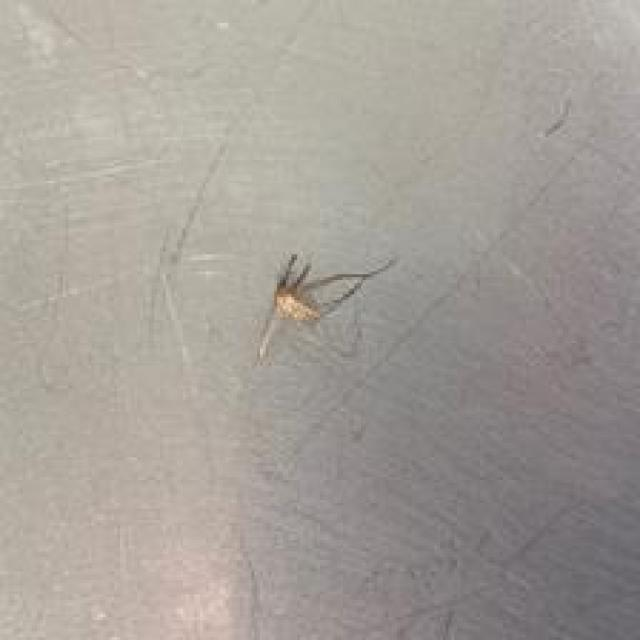Culex: (255, 250, 394, 364)
